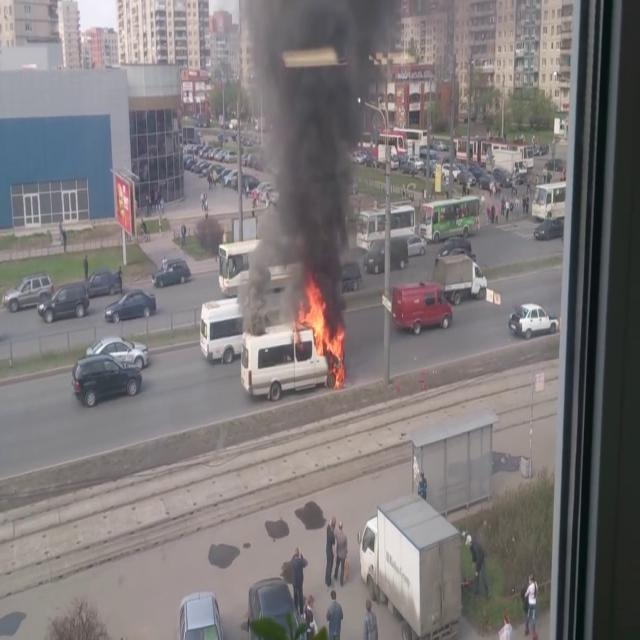Fire: (296, 278, 346, 376)
Smoke: (234, 1, 372, 316)
